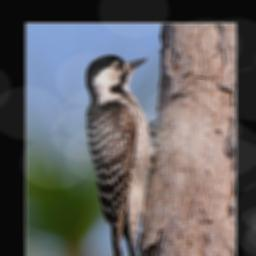Woodpecker: (80, 48, 162, 256)
